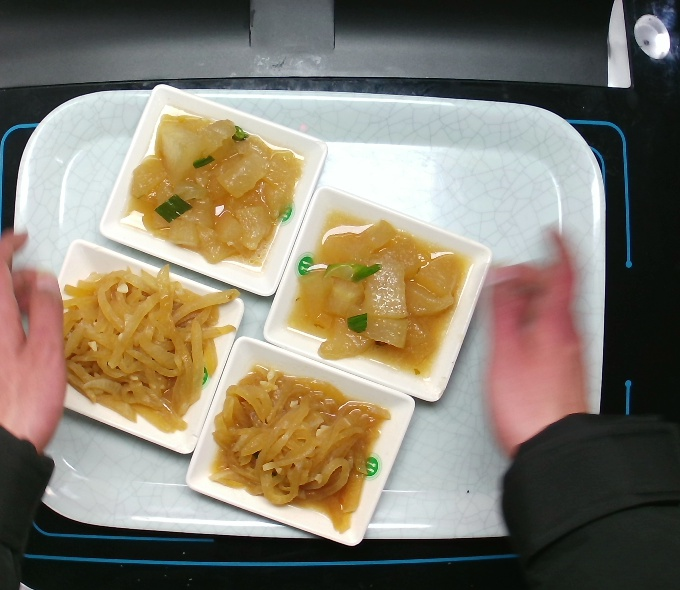wcq-DongGua: (285, 208, 465, 372), (127, 108, 304, 268)
wcq-LuoBoSi: (60, 260, 244, 436), (208, 361, 392, 534)
